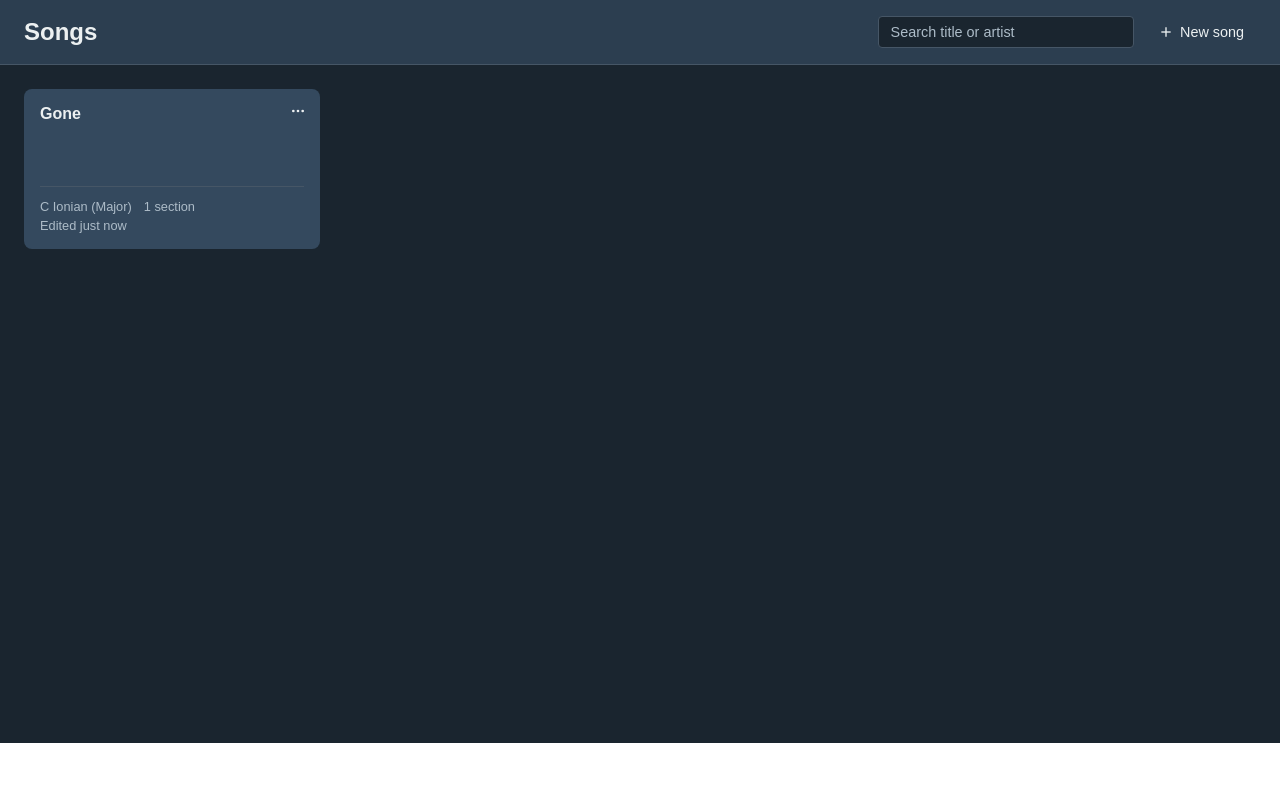
Test case: SongLibraryPageComponent › failures › says what went wrong in a polite live region that was on the page before it spoke
Click the button with class "card-menu-toggle".
click(298, 111)  # box [285, 97, 312, 125]
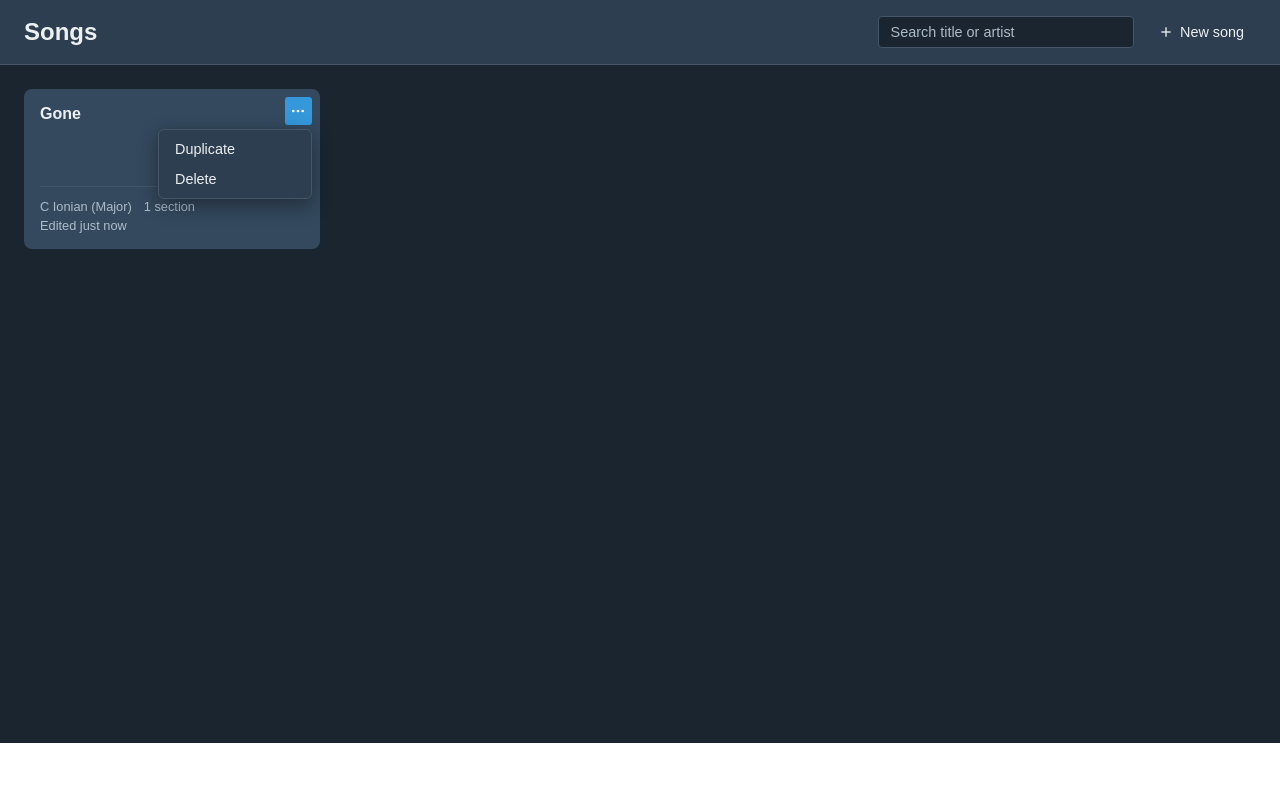
Click the button with class "card-duplicate".
click(235, 149)  # box [163, 134, 307, 164]
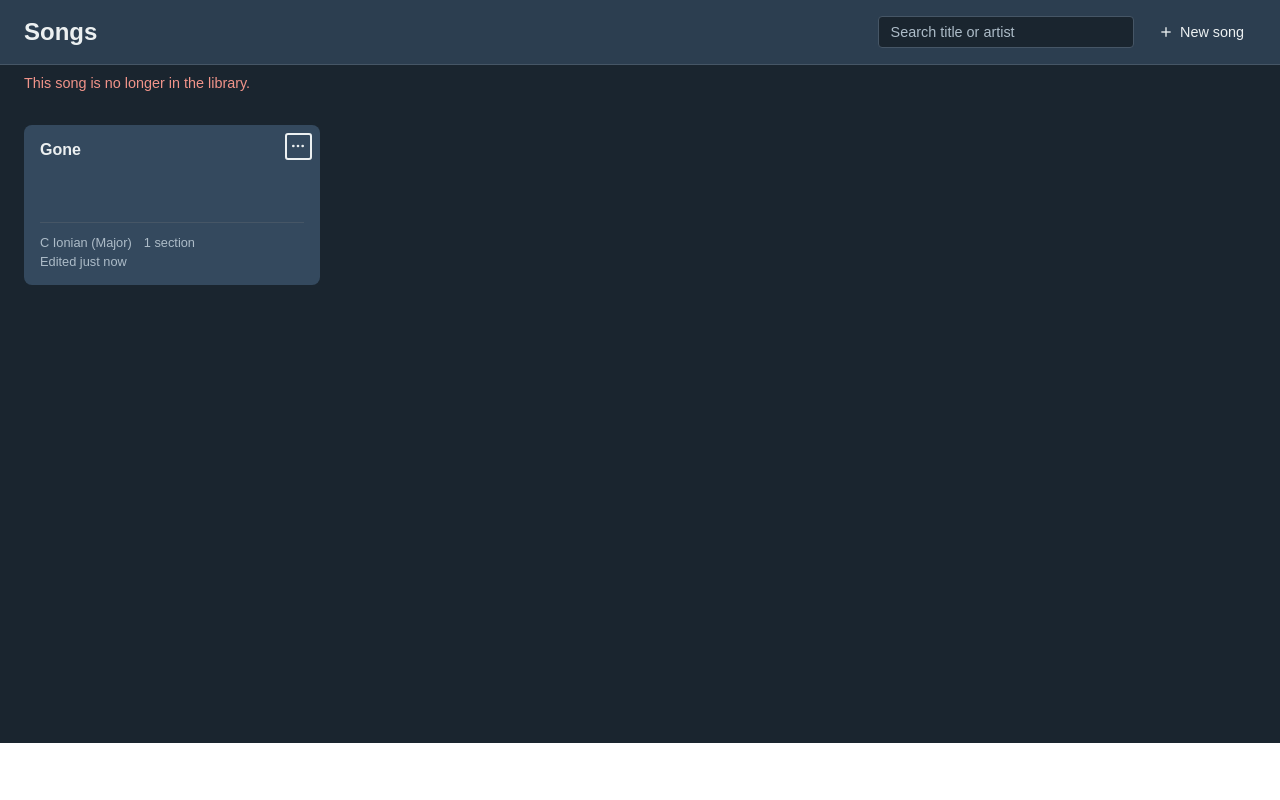
Expected: the message "This song is no longer in the library." is shown, [24, 75, 250, 91]
